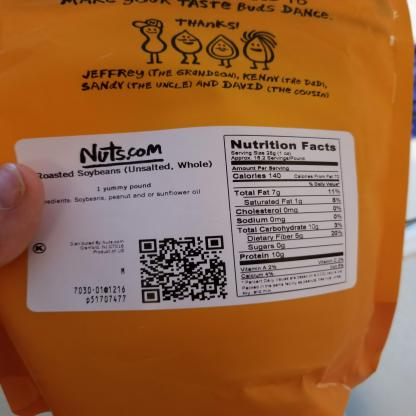qr: (136, 231, 230, 305)
